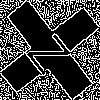Z: (25, 25, 80, 77)
